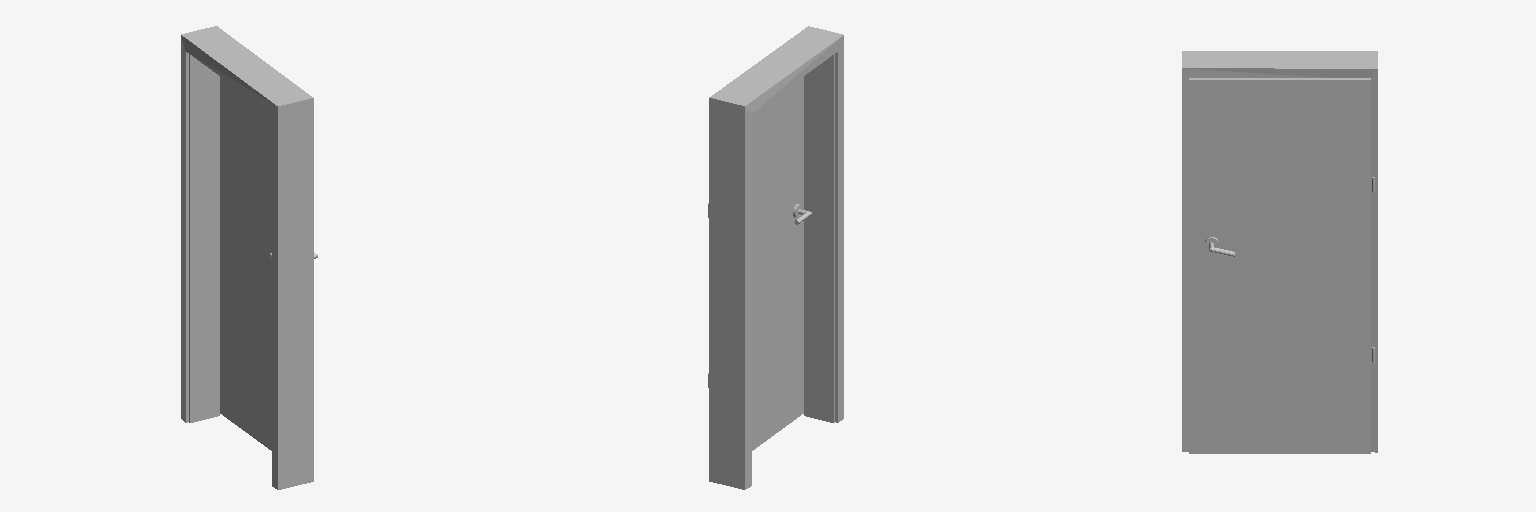
Rendered from door32.obj.
3 renders of one model, left to right at view 1: azimuth 30°, elevation 25°; view 2: azimuth 150°, elevation 25°; view 3: azimuth 270°, elevation 25°, orthographic.
Visible parts, largest first — view 1: Cylinder.005, Cylinder.001; view 2: Cylinder.005, Cylinder.001; view 3: Cylinder.001, Cylinder.005.
Boxes of the visible parts, x1=… form: Cylinder.005: x1=181, y1=26, x2=313, y2=489; Cylinder.001: x1=220, y1=77, x2=271, y2=450; Cylinder.005: x1=708, y1=26, x2=843, y2=489; Cylinder.001: x1=708, y1=77, x2=803, y2=450; Cylinder.001: x1=1189, y1=78, x2=1374, y2=453; Cylinder.005: x1=1182, y1=51, x2=1377, y2=452.
Size of the model in its own units: 0.3039 by 2.05 by 0.95.